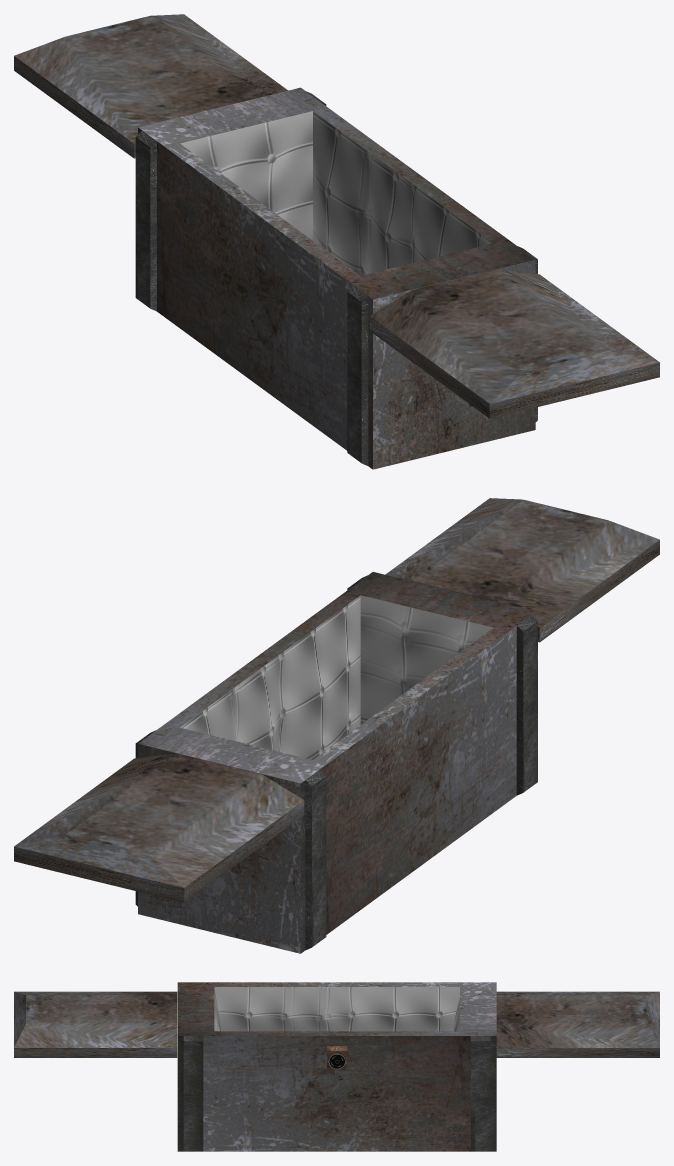
The model's file is Homxac.fbx.
3 renders of one model, top to bottom at view 1: azimuth 30°, elevation 25°; view 2: azimuth 150°, elevation 25°; view 3: azimuth 270°, elevation 25°, orthographic. The views are drawn at different scales.
Parts seen in each view (by area): view 1: pCube3, LidRight, LidLeft; view 2: pCube3, LidLeft, LidRight; view 3: pCube3, LidRight, LidLeft.
Part boxes in pixels (x1,y1,x2,y2): pCube3: [135, 87, 537, 469]; LidRight: [369, 269, 659, 418]; LidLeft: [14, 14, 287, 158]; pCube3: [135, 572, 537, 953]; LidLeft: [14, 753, 304, 902]; LidRight: [385, 498, 659, 642]; pCube3: [177, 982, 496, 1151]; LidRight: [14, 991, 177, 1057]; LidLeft: [496, 991, 659, 1057].
Bounding box in the file's own units: 2.2 × 2 × 10.12.
Materials: 1 (1 with a texture image).
